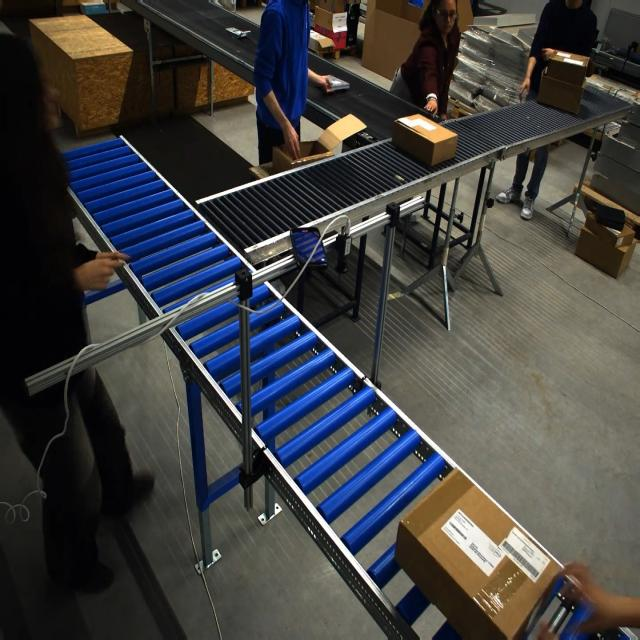box: (398, 471, 562, 638), (276, 115, 353, 175), (392, 113, 457, 167)
product: (324, 76, 350, 93), (225, 26, 251, 39)
